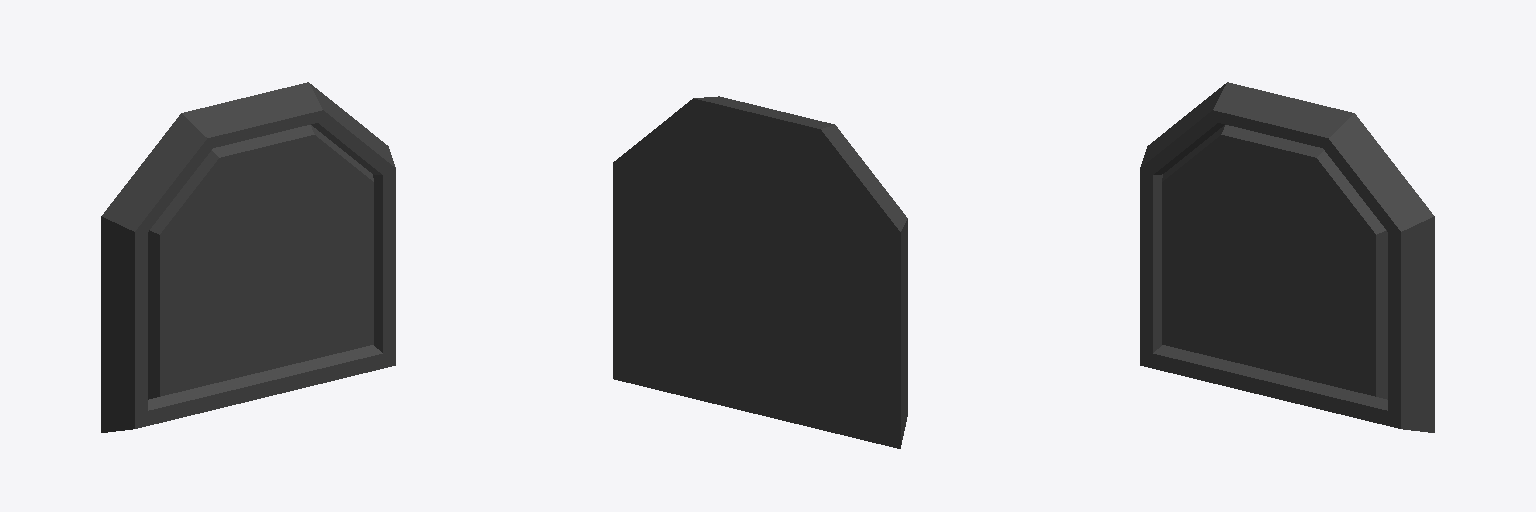
Rendered from Details_Basic_3.obj.
3 renders of one model, left to right at view 1: azimuth 30°, elevation 25°; view 2: azimuth 150°, elevation 25°; view 3: azimuth 330°, elevation 25°, orthographic.
Visible parts, largest first — view 1: Details_Basic_3_Cube.055; view 2: Details_Basic_3_Cube.055; view 3: Details_Basic_3_Cube.055.
Boxes of the visible parts, box(x1,y1,x2,y2) form: Details_Basic_3_Cube.055: box(101, 82, 395, 432); Details_Basic_3_Cube.055: box(613, 96, 907, 448); Details_Basic_3_Cube.055: box(1140, 82, 1434, 432).
Size of the model in its own units: 0.3099 by 0.3099 by 0.0413.